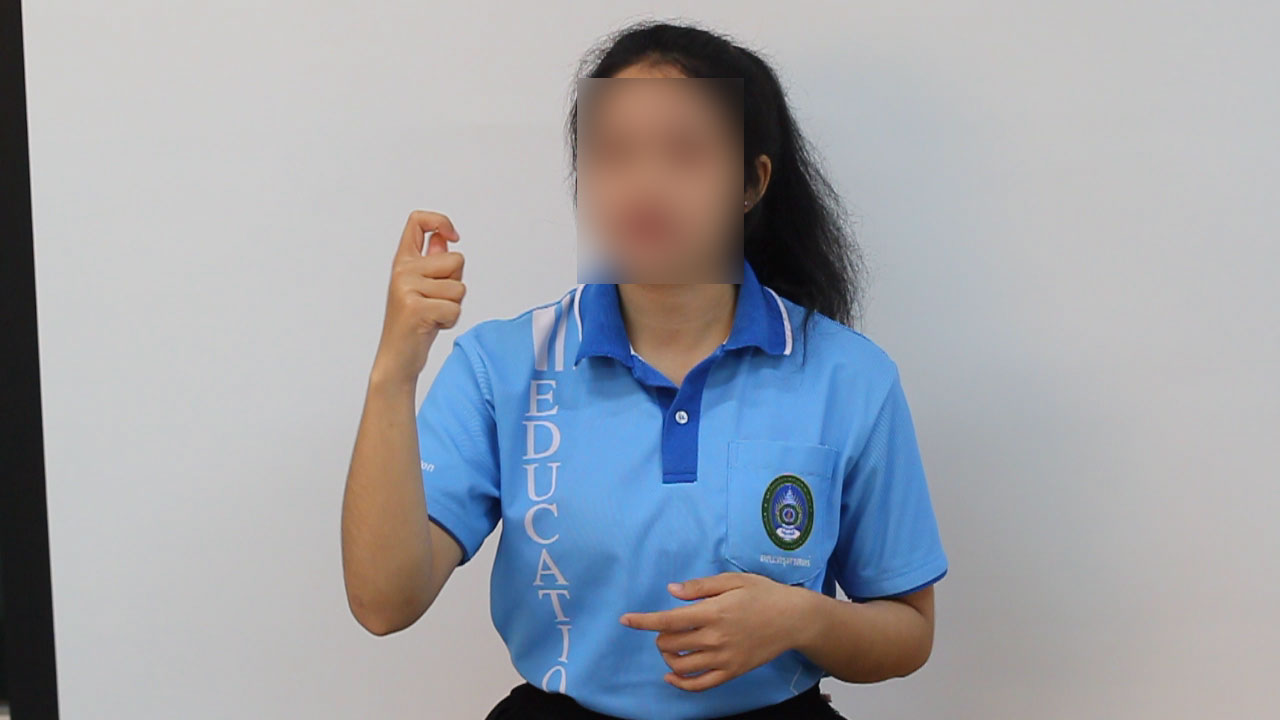or: (379, 198, 474, 370)
